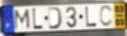3: (65, 6, 78, 30)
C: (99, 5, 114, 28)
D: (47, 7, 64, 30)
L: (31, 7, 44, 31), (85, 6, 98, 28)
M: (14, 8, 31, 31)
